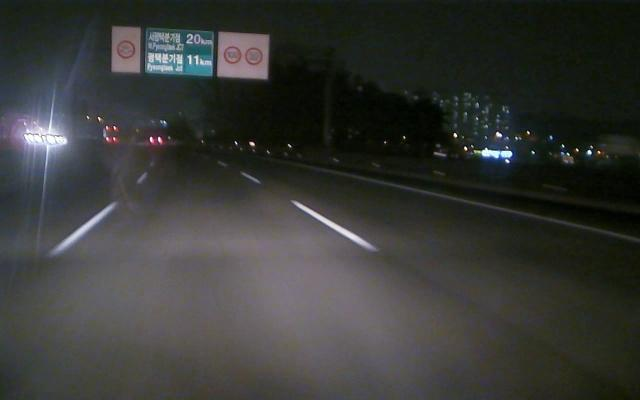lane: (349, 176, 637, 242), (244, 174, 381, 251), (48, 173, 145, 258)
